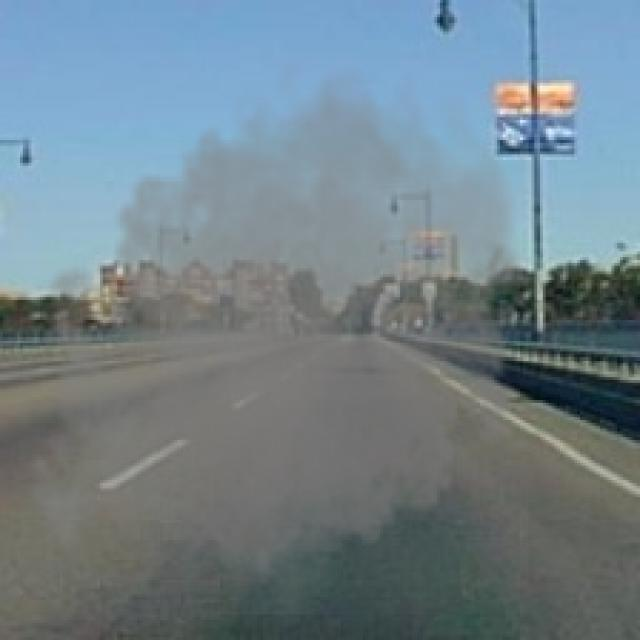Smoke: (14, 48, 540, 614)
